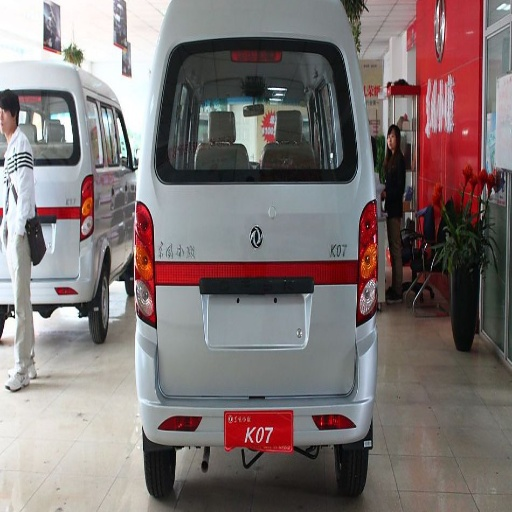back_bumper: (137, 320, 370, 451)
trunk: (141, 184, 368, 394)
